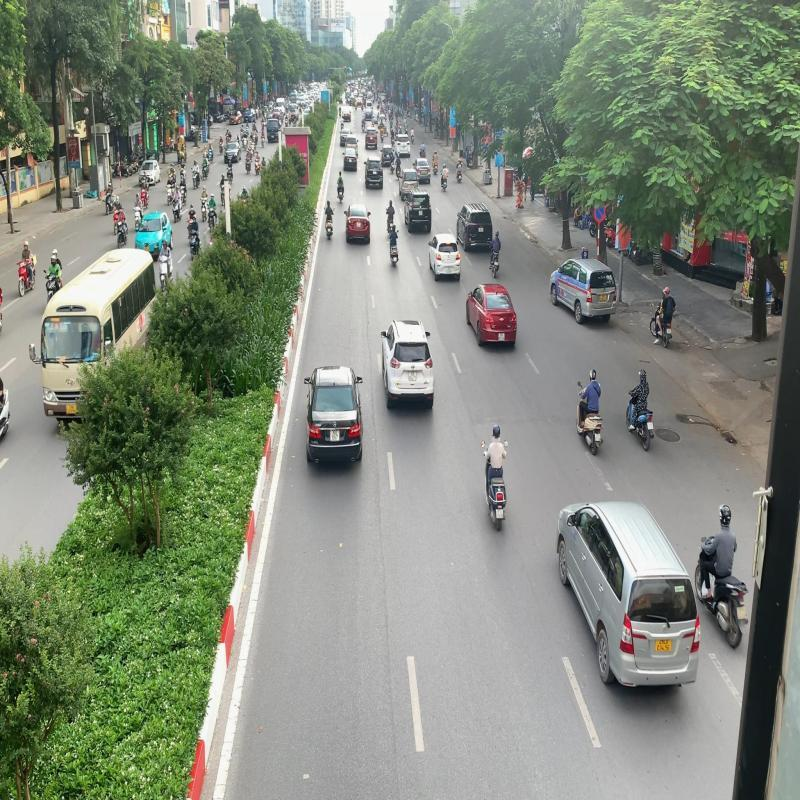helmet: (718, 503, 732, 526), (492, 423, 501, 438), (590, 368, 596, 382)
licenseplate: (736, 606, 748, 620), (496, 508, 504, 518), (594, 433, 600, 442)
motorcyclist: (694, 503, 750, 650), (480, 422, 510, 532), (576, 368, 604, 456)
